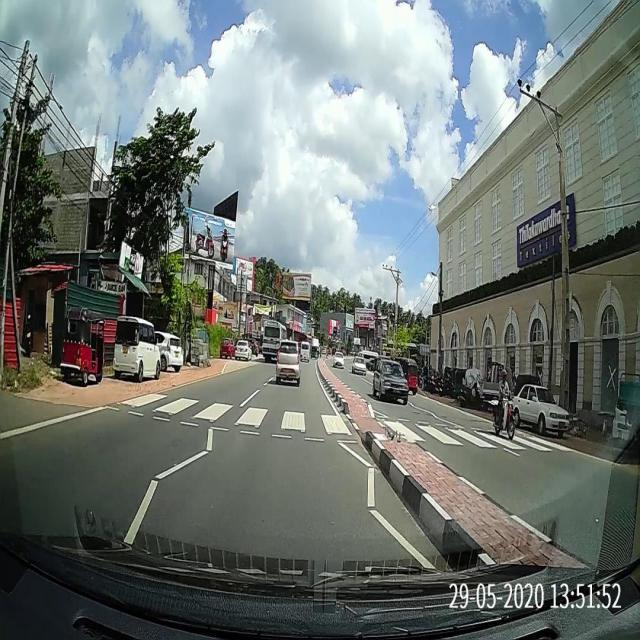Crosswalk: (101, 390, 578, 453)
